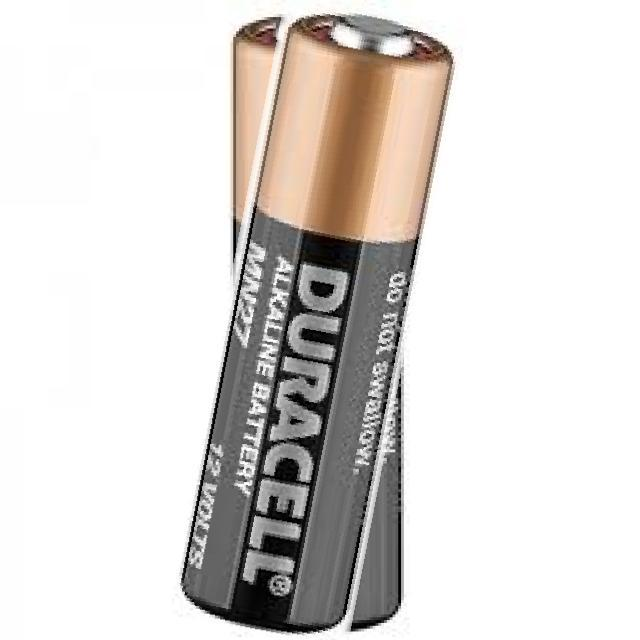Battery: (176, 7, 459, 639), (345, 360, 407, 631), (229, 11, 287, 267)
